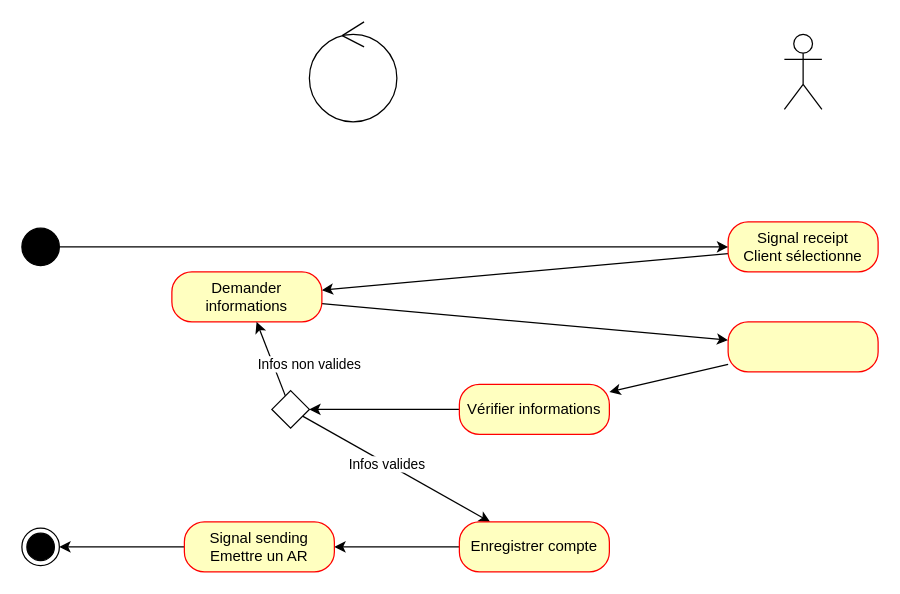
This 900x594 diagram has some shape labels left out. The shapes that lost their labels are listed below. From the top down, each one's centre as x and y in pixels, then its label:
(352,71): Système
(802,71): Client
(802,346): Fournir informations
